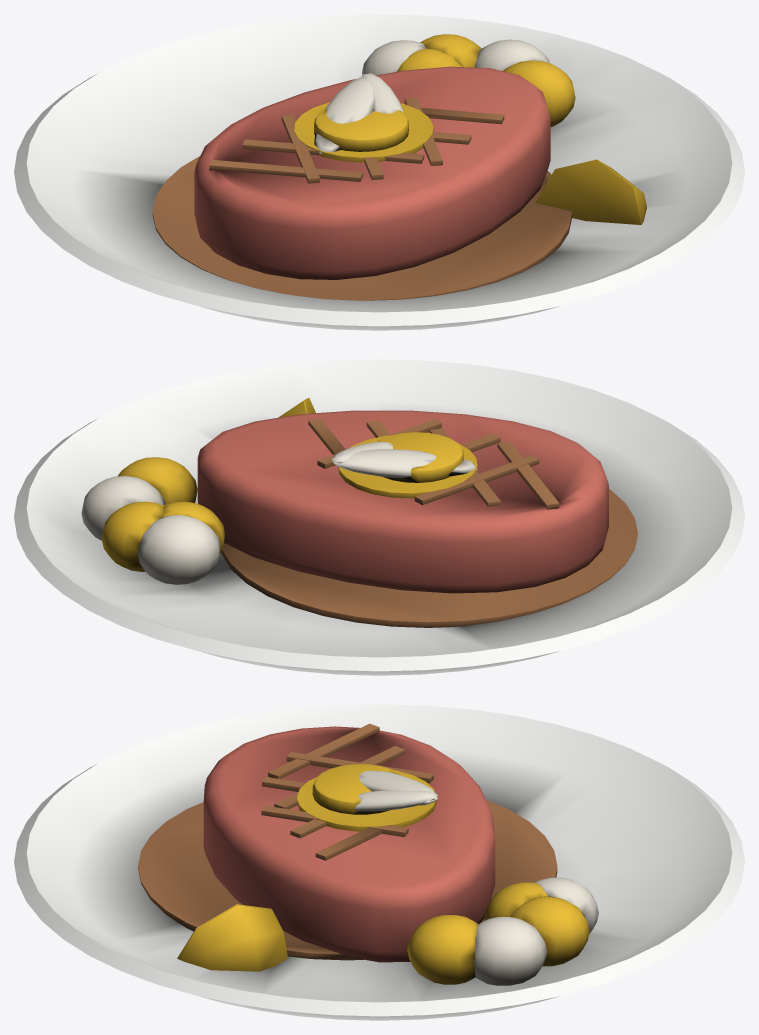
The model's file is meal_cutlet.glb.
The picture shows the model from 3 angles, top to bottom: view 1: azimuth 30°, elevation 25°; view 2: azimuth 150°, elevation 25°; view 3: azimuth 270°, elevation 25°; orthographic projection.
Visible parts, largest first — view 1: PART; view 2: PART; view 3: PART.
Part boxes in pixels (x1=…): PART: x1=14, y1=14, x2=744, y2=330; PART: x1=14, y1=359, x2=744, y2=675; PART: x1=14, y1=704, x2=744, y2=1020.
Bounding box in the file's own units: 0.3036 × 0.0583 × 0.3036.
